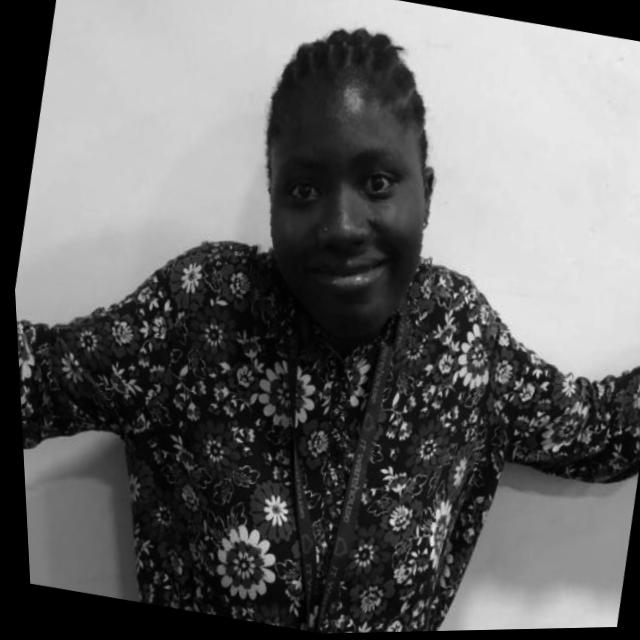happy: (217, 27, 473, 366)
